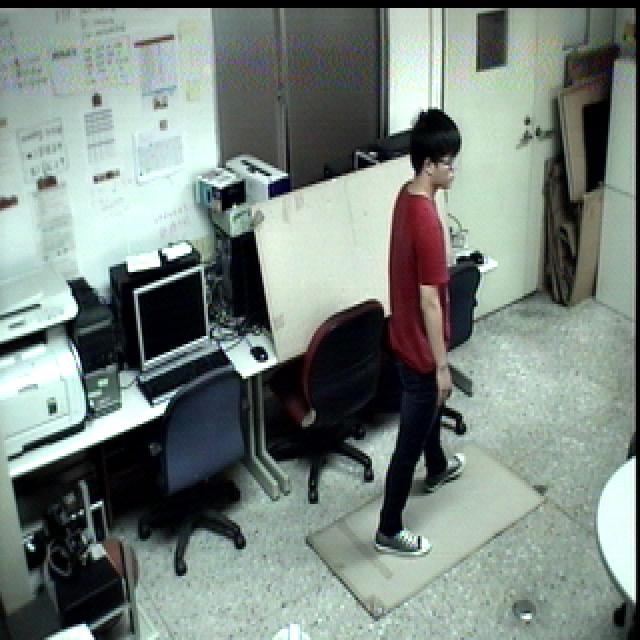stand: (374, 99, 478, 569)
